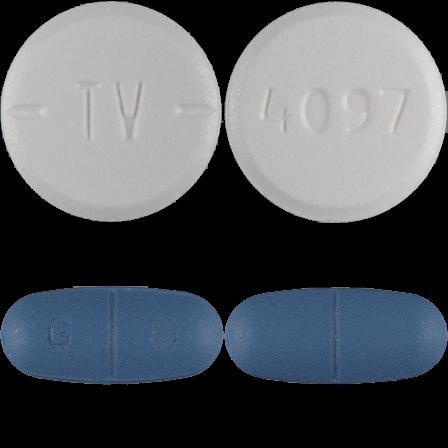54868-3006: (0, 0, 224, 224)
